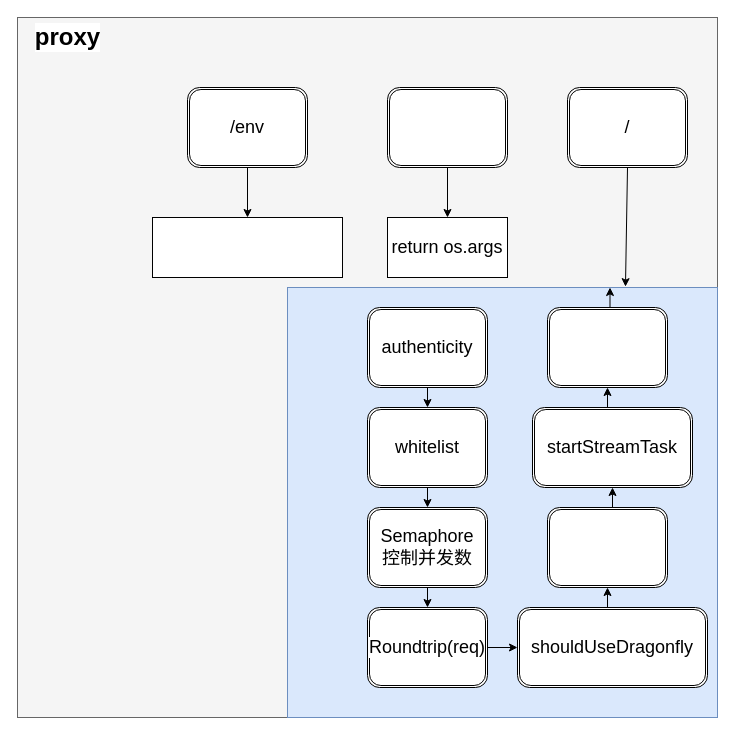
Some shapes in this 735 by 735 pixel diagram are drawn without their labels. The centre of each missing label's shape, as x and y in pixels:
"/args" goes at pixel 447 127.
"io.reader" goes at pixel 607 347.
"peerTask" goes at pixel 607 547.
"return viper.allsetting" goes at pixel 247 247.
